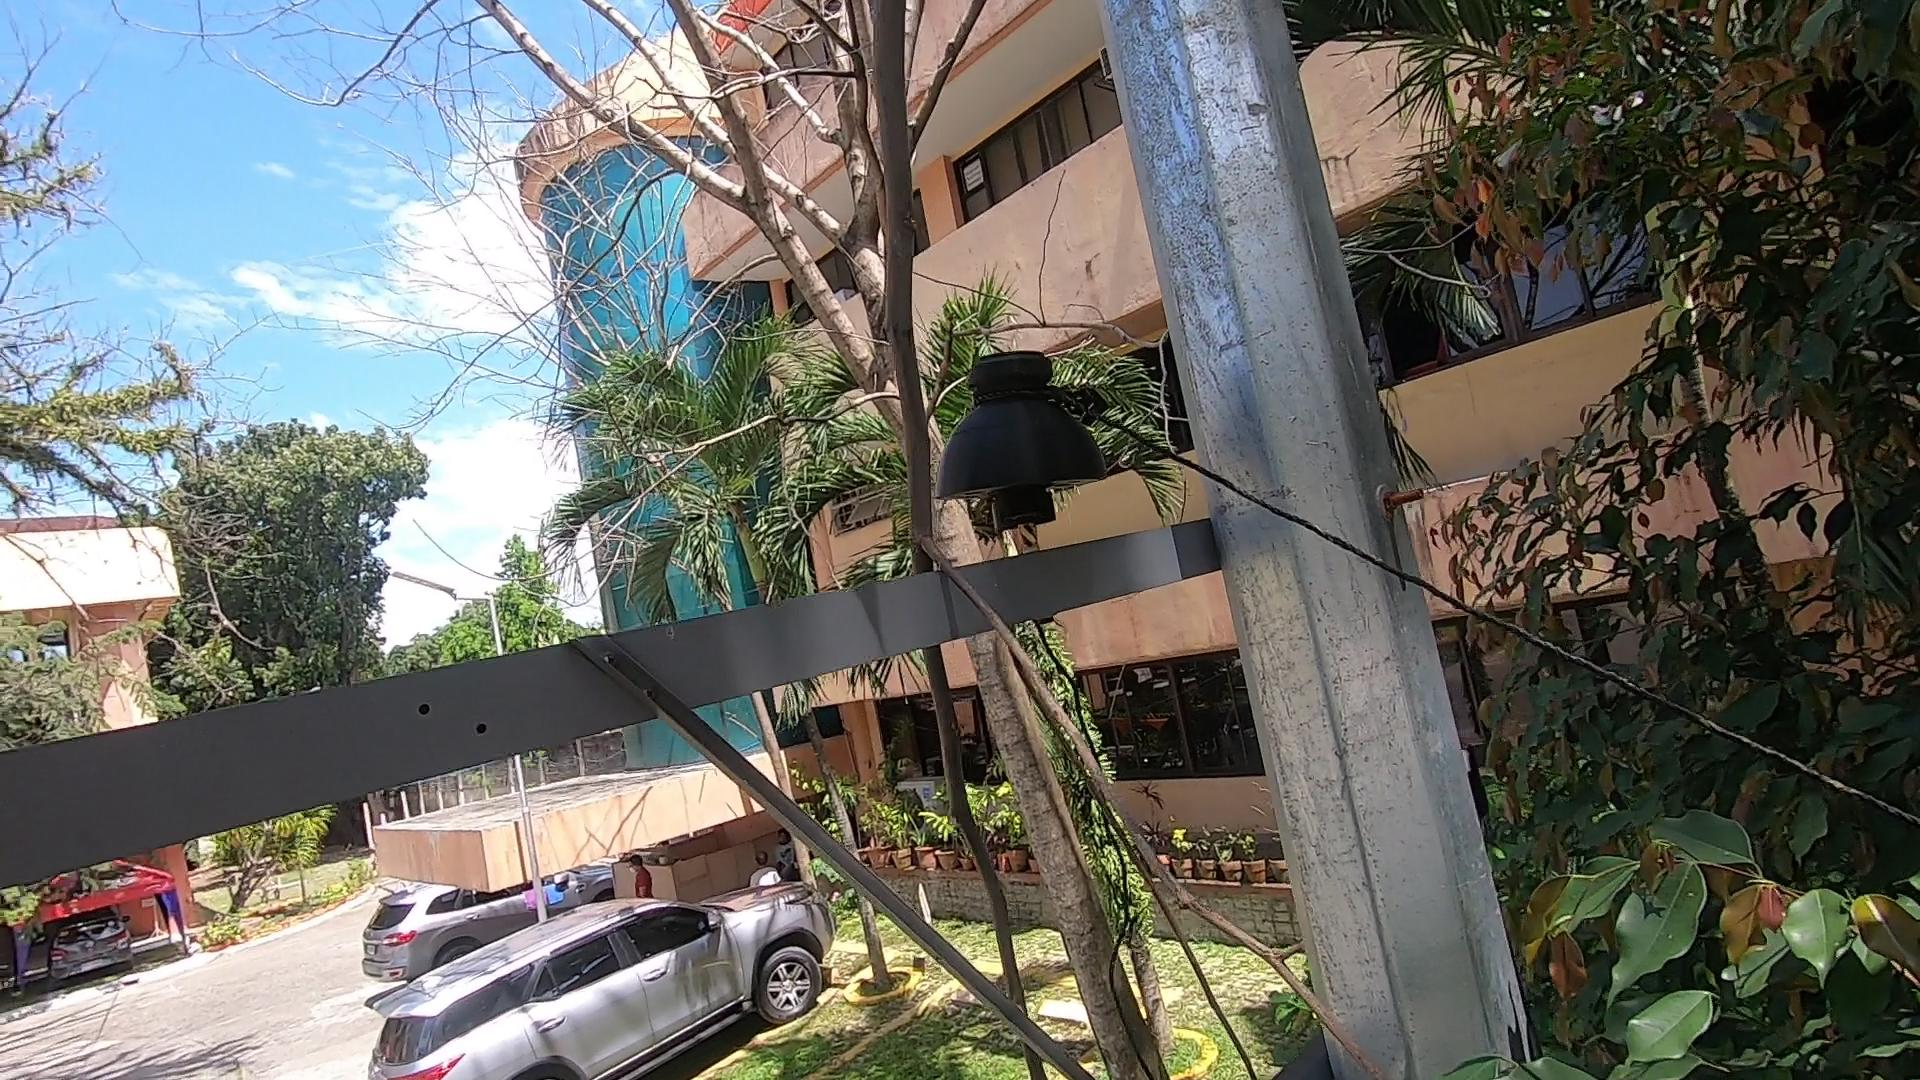tree branch: (777, 3, 1394, 1080)
